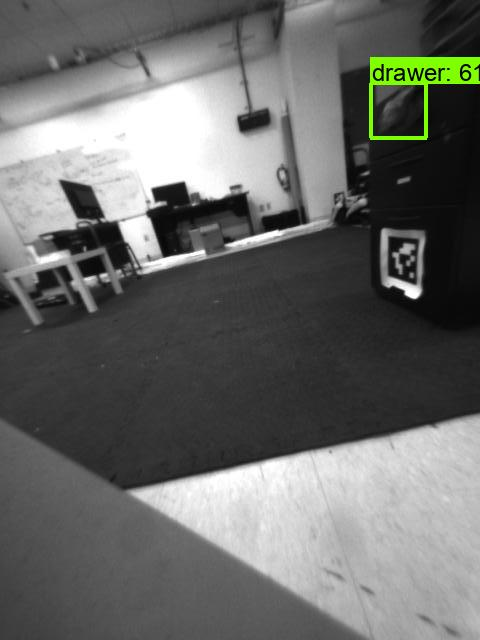drawer: (366, 82, 432, 139)
